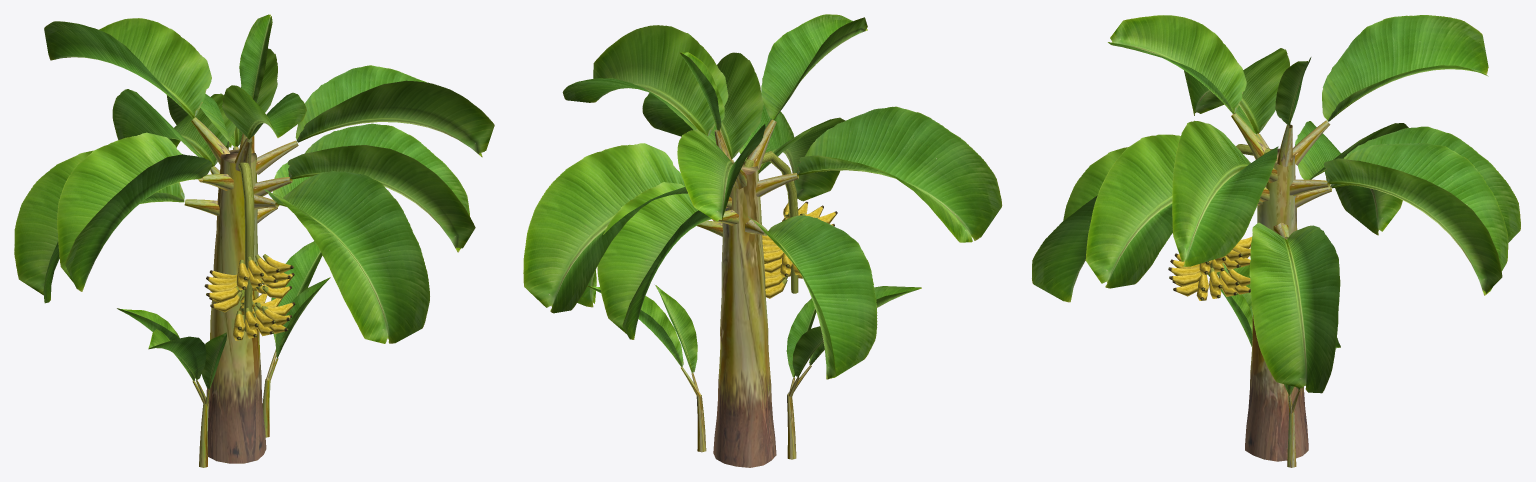
Rendered from BananaTree_Ripe.fbx.
The picture shows the model from 3 angles, left to right: view 1: azimuth 30°, elevation 25°; view 2: azimuth 150°, elevation 25°; view 3: azimuth 270°, elevation 25°; orthographic projection. The views are drawn at different scales.
Parts seen in each view (by area): view 1: BananaTree_Ripe_LOD0; view 2: BananaTree_Ripe_LOD0; view 3: BananaTree_Ripe_LOD0.
Boxes of the visible parts, box(x1,y1,x2,y2) form: BananaTree_Ripe_LOD0: box(14, 14, 494, 467); BananaTree_Ripe_LOD0: box(523, 14, 1002, 467); BananaTree_Ripe_LOD0: box(1032, 15, 1520, 467).
Size of what is drawn, in the model's own units: 3.25 by 2.99 by 3.21.
